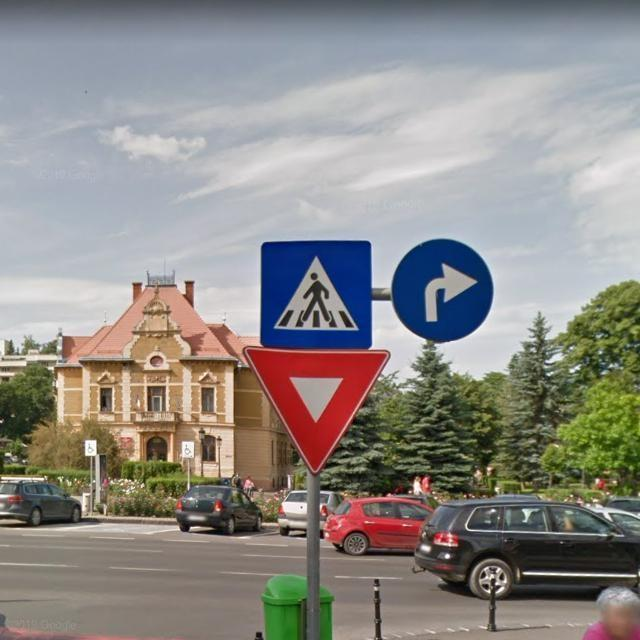info_crosswalk: (260, 239, 371, 349)
prio_give_way: (242, 346, 388, 476)
